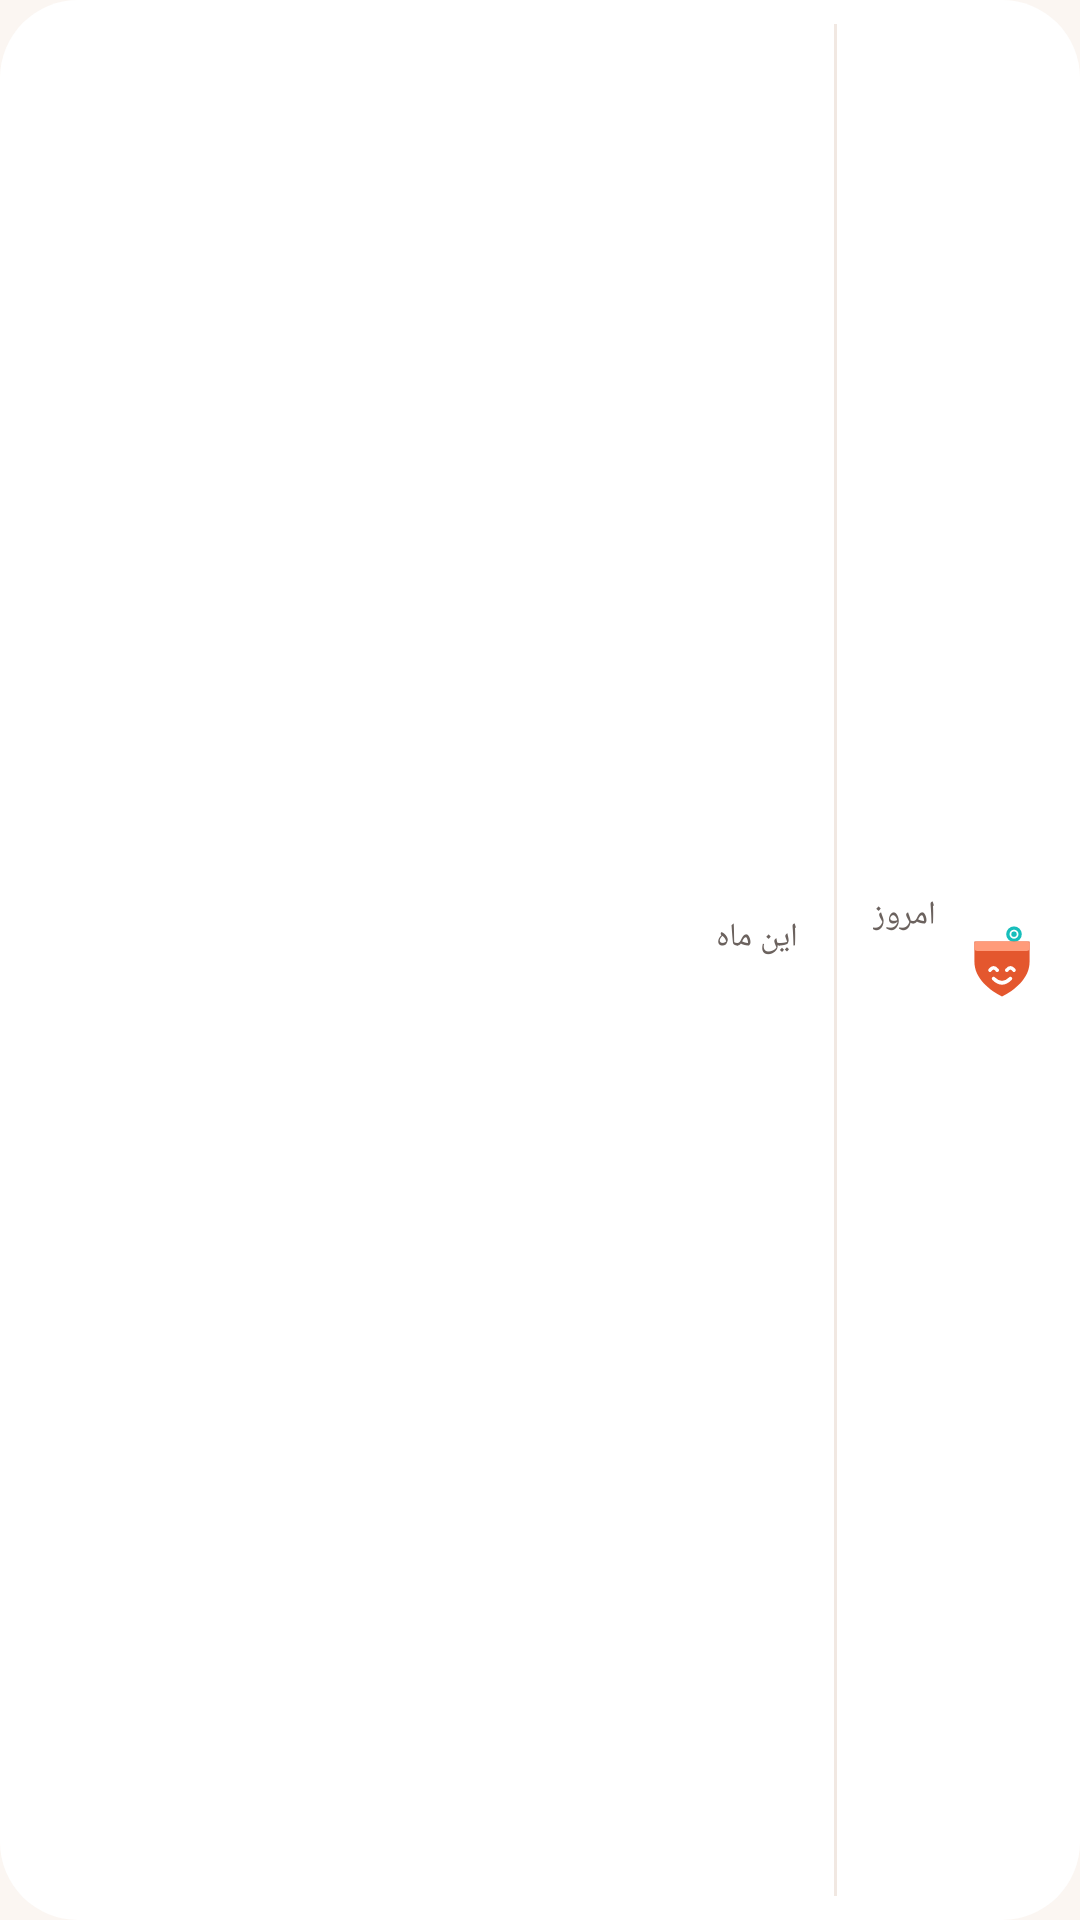

Icons on this 1080w x 1920h Android screen, each with the point to tap as (x,y):
widget mascot happy: (1002,961)
